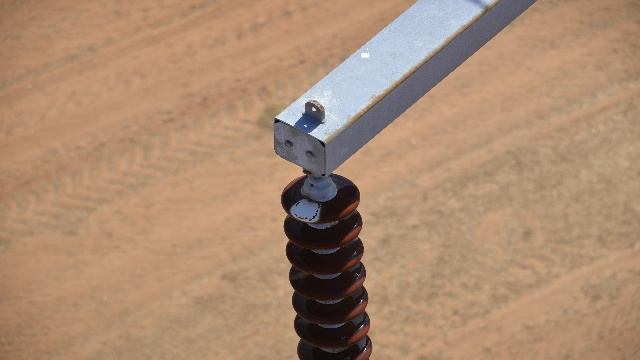insulator_unspecified: (283, 174, 374, 359)
pollution_flashover_local: (290, 197, 322, 222)
